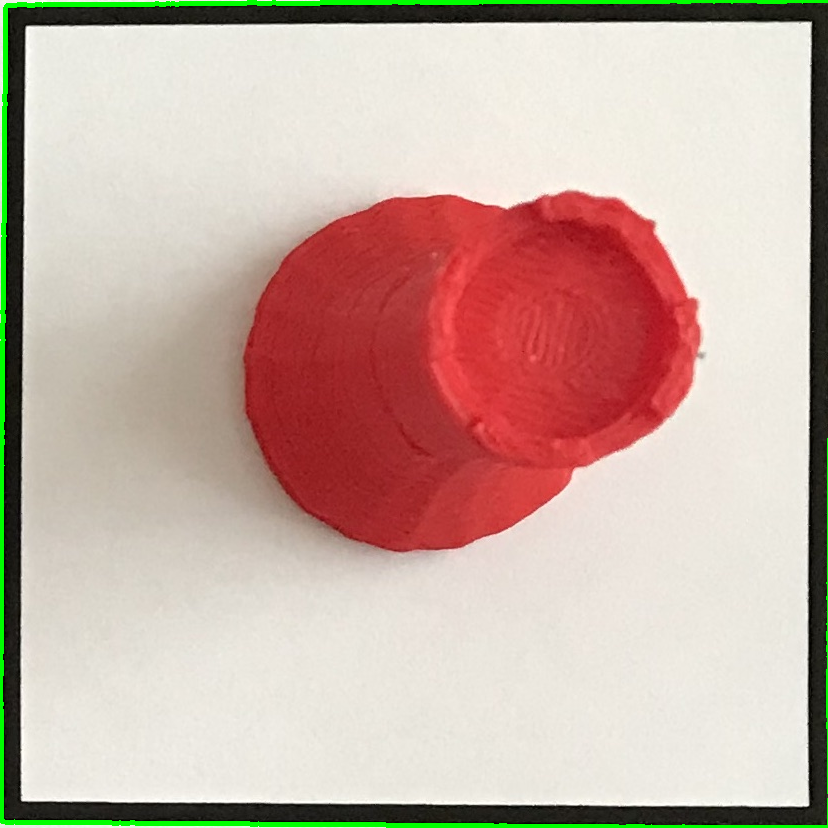Red Castle: (231, 170, 706, 580)
